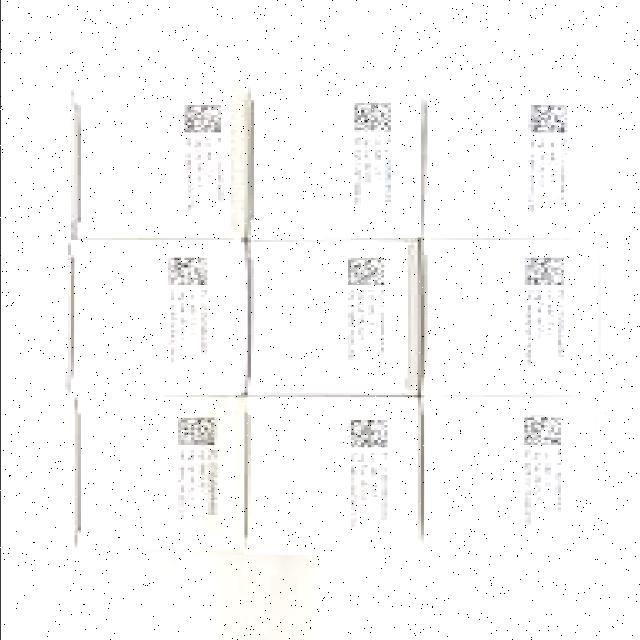datamatrix: (340, 250, 397, 290), (340, 412, 397, 450), (520, 100, 573, 138), (520, 250, 573, 288), (517, 410, 570, 448), (180, 100, 233, 138), (350, 97, 400, 135), (164, 252, 214, 290), (174, 412, 224, 450)
